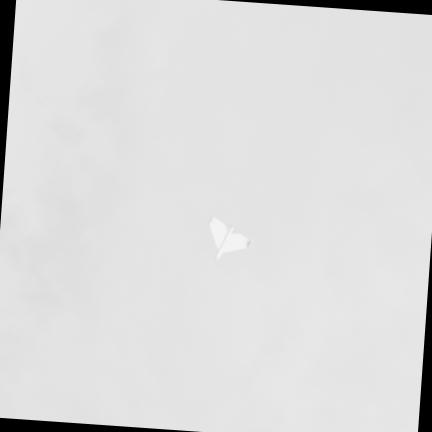Shahed: (208, 214, 250, 259)
